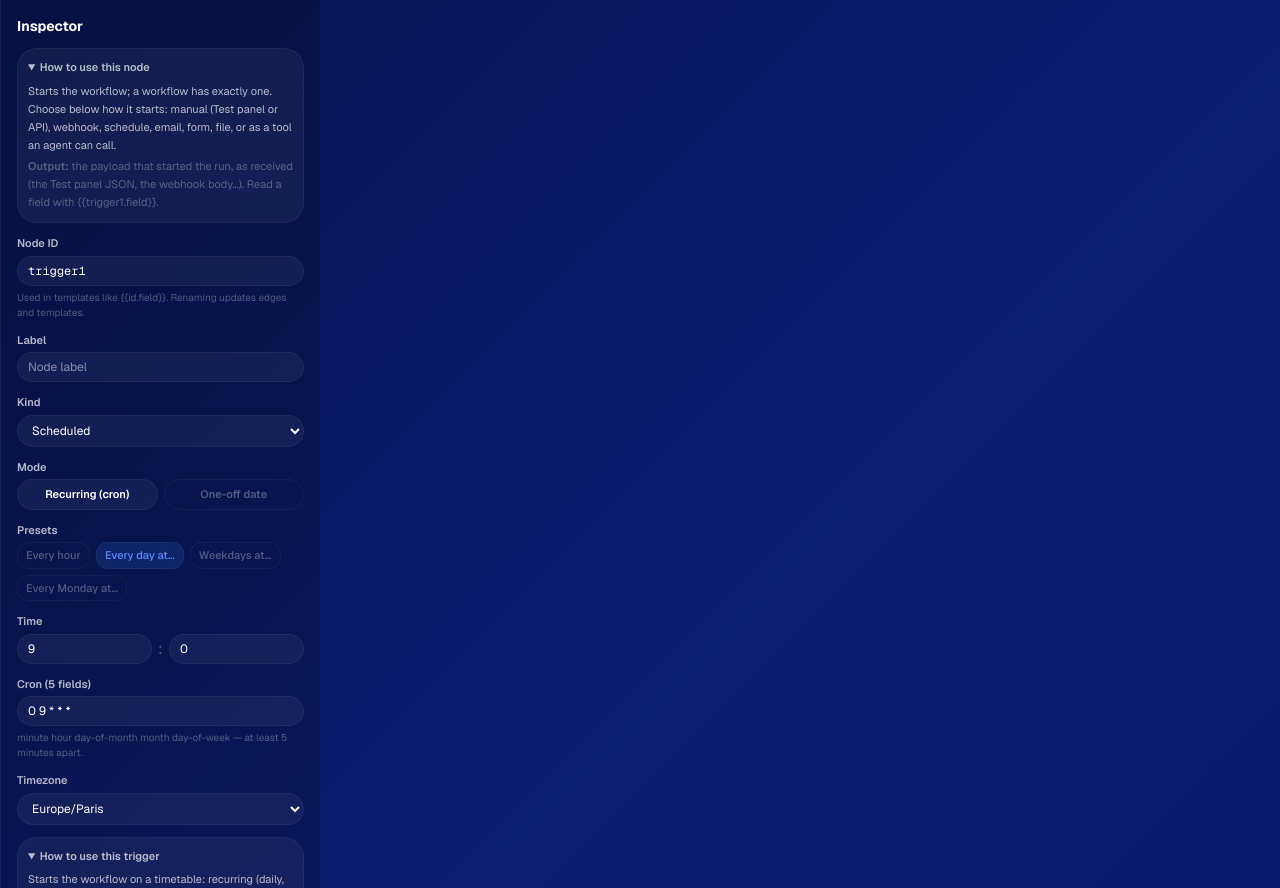
Test case: kind switch › clears the previous kind's fields instead of merging them
expect the field labelled "Cron (5 fields)" is shown: met, box [17, 696, 304, 726]
Select "Webhook" in the dropdown labelled "Kind" at x=160, y=430, box [17, 414, 304, 446]
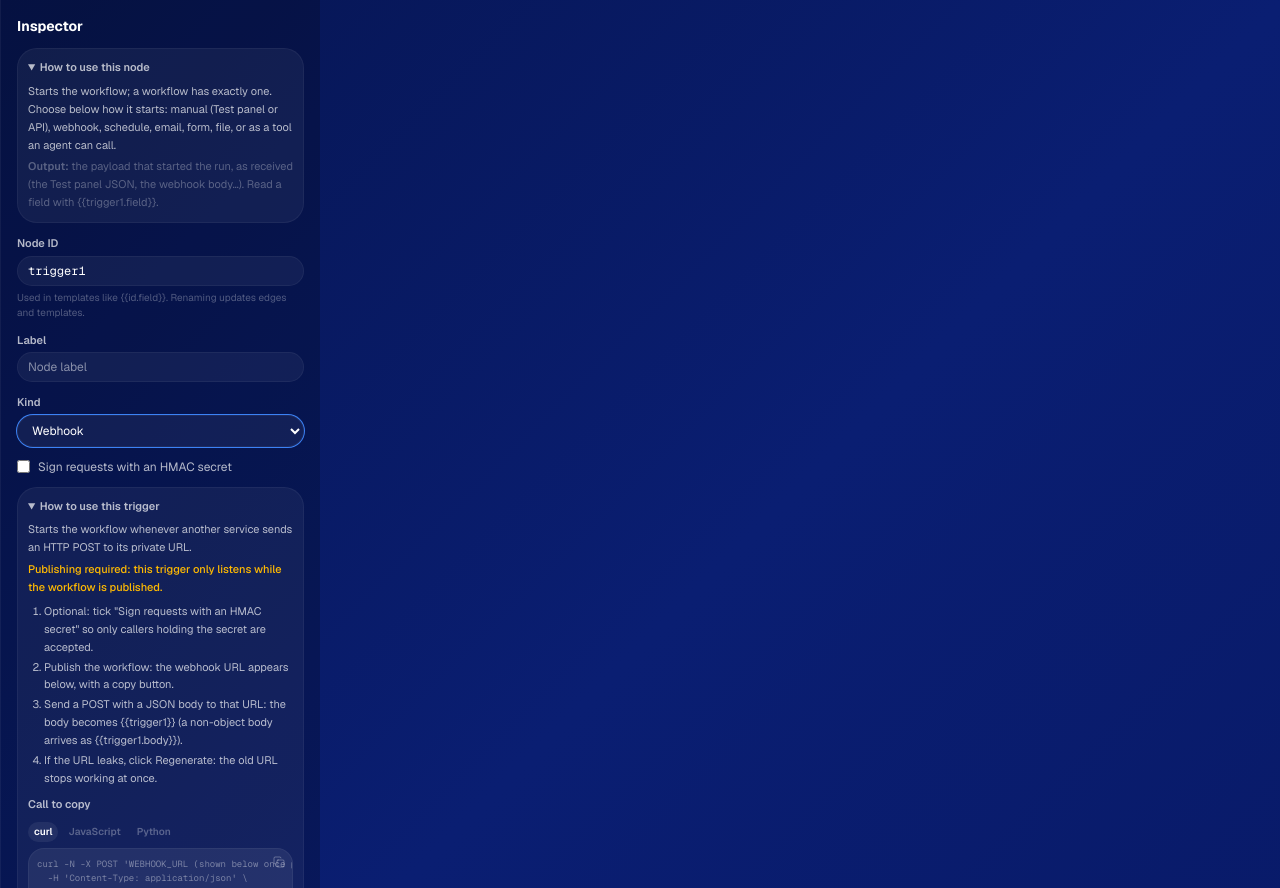
expect the text labelled "Cron (5 fields)" is gone: met
expect the text labelled "Timezone" is gone: met
expect the checkbox labelled "Sign requests with an HMAC secret" is shown: met, box [17, 460, 30, 473]
